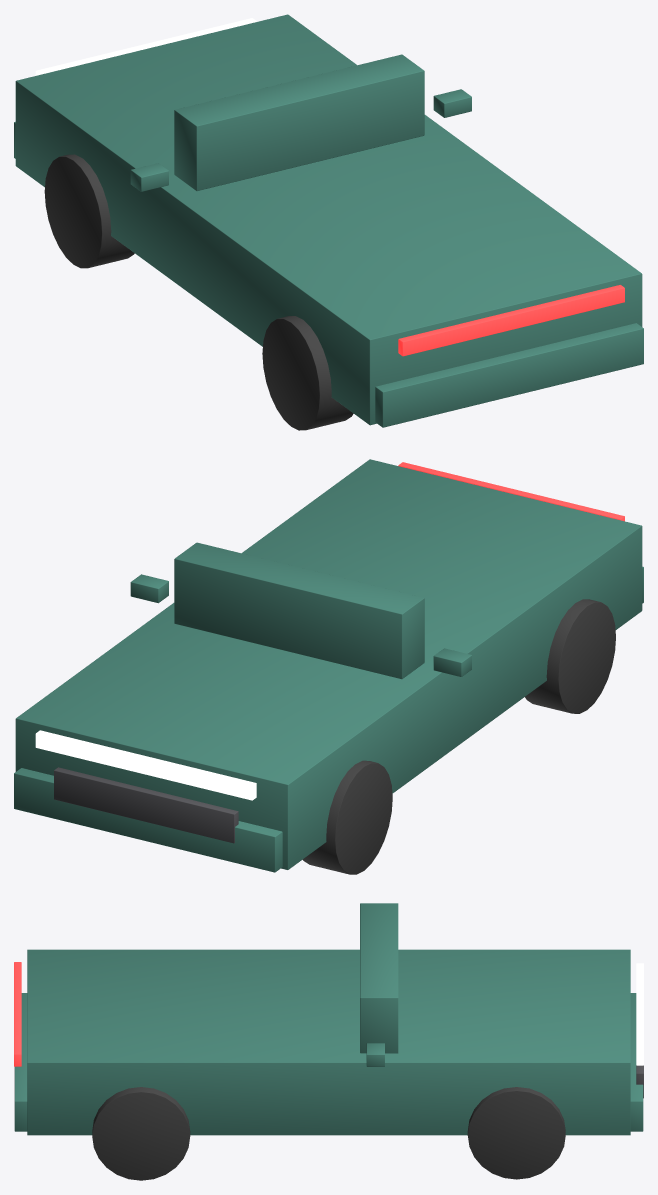
File: vehicle.glb
The picture shows the model from 3 angles, top to bottom: view 1: azimuth 30°, elevation 25°; view 2: azimuth 150°, elevation 25°; view 3: azimuth 270°, elevation 25°; orthographic projection. The views are drawn at different scales.
Parts seen in each view (by area): view 1: BODY_Main, BODY_Roof, BODY_Bumpers_Rear, WHEEL_RR_Tire, WHEEL_FR_Tire, LIGHT_Taillights, LIGHT_Headlights, BODY_Mirror_R, BODY_Mirror_L; view 2: BODY_Main, BODY_Roof, BODY_Bumpers_Front, WHEEL_RR_Tire, WHEEL_FR_Tire, BODY_Grille, LIGHT_Headlights, LIGHT_Taillights, BODY_Mirror_L, BODY_Mirror_R; view 3: BODY_Main, WHEEL_RL_Tire, WHEEL_FL_Tire, BODY_Roof, BODY_Bumpers_Rear, BODY_Bumpers_Front, LIGHT_Taillights, LIGHT_Headlights, BODY_Mirror_L.
Part boxes in pixels (x1,y1,x2,y2): BODY_Main: (15, 14, 642, 425); BODY_Roof: (174, 54, 424, 190); BODY_Bumpers_Rear: (375, 323, 643, 427); WHEEL_RR_Tire: (262, 316, 353, 430); WHEEL_FR_Tire: (44, 154, 134, 268); LIGHT_Taillights: (398, 285, 624, 356); LIGHT_Headlights: (35, 18, 256, 75); BODY_Mirror_R: (130, 163, 168, 191); BODY_Mirror_L: (433, 89, 471, 117); BODY_Main: (15, 459, 642, 869); BODY_Roof: (174, 542, 424, 679); BODY_Bumpers_Front: (14, 768, 282, 872); WHEEL_RR_Tire: (525, 599, 615, 713); WHEEL_FR_Tire: (302, 760, 392, 874); BODY_Grille: (54, 767, 238, 843); LIGHT_Headlights: (35, 730, 256, 800); LIGHT_Taillights: (398, 462, 624, 521); BODY_Mirror_L: (130, 574, 168, 603); BODY_Mirror_R: (433, 648, 471, 676); BODY_Main: (27, 949, 630, 1135); WHEEL_RL_Tire: (92, 1087, 190, 1180); WHEEL_FL_Tire: (467, 1087, 565, 1179); BODY_Roof: (360, 903, 398, 1053); BODY_Bumpers_Rear: (14, 993, 27, 1131); BODY_Bumpers_Front: (630, 993, 643, 1131); LIGHT_Taillights: (14, 962, 21, 1066); LIGHT_Headlights: (636, 963, 643, 1065); BODY_Mirror_L: (366, 1043, 384, 1066).
Bounding box in the file's own units: 2.12 × 1.21 × 4.11.
